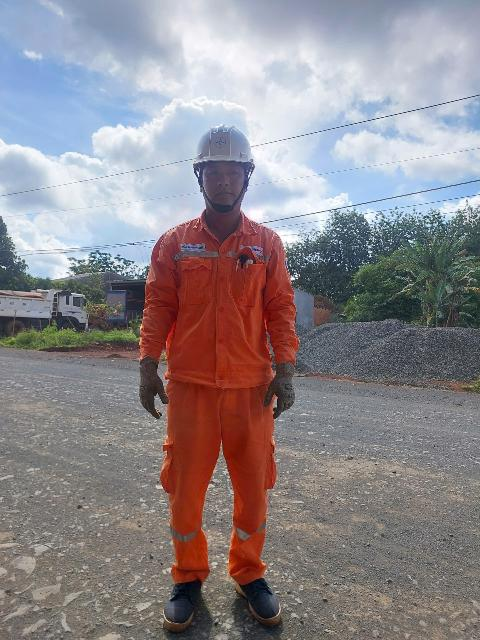gloves: (257, 358, 314, 415), (127, 356, 174, 419)
helmet: (171, 122, 270, 172)
shoes: (146, 562, 224, 640), (224, 559, 298, 637)
